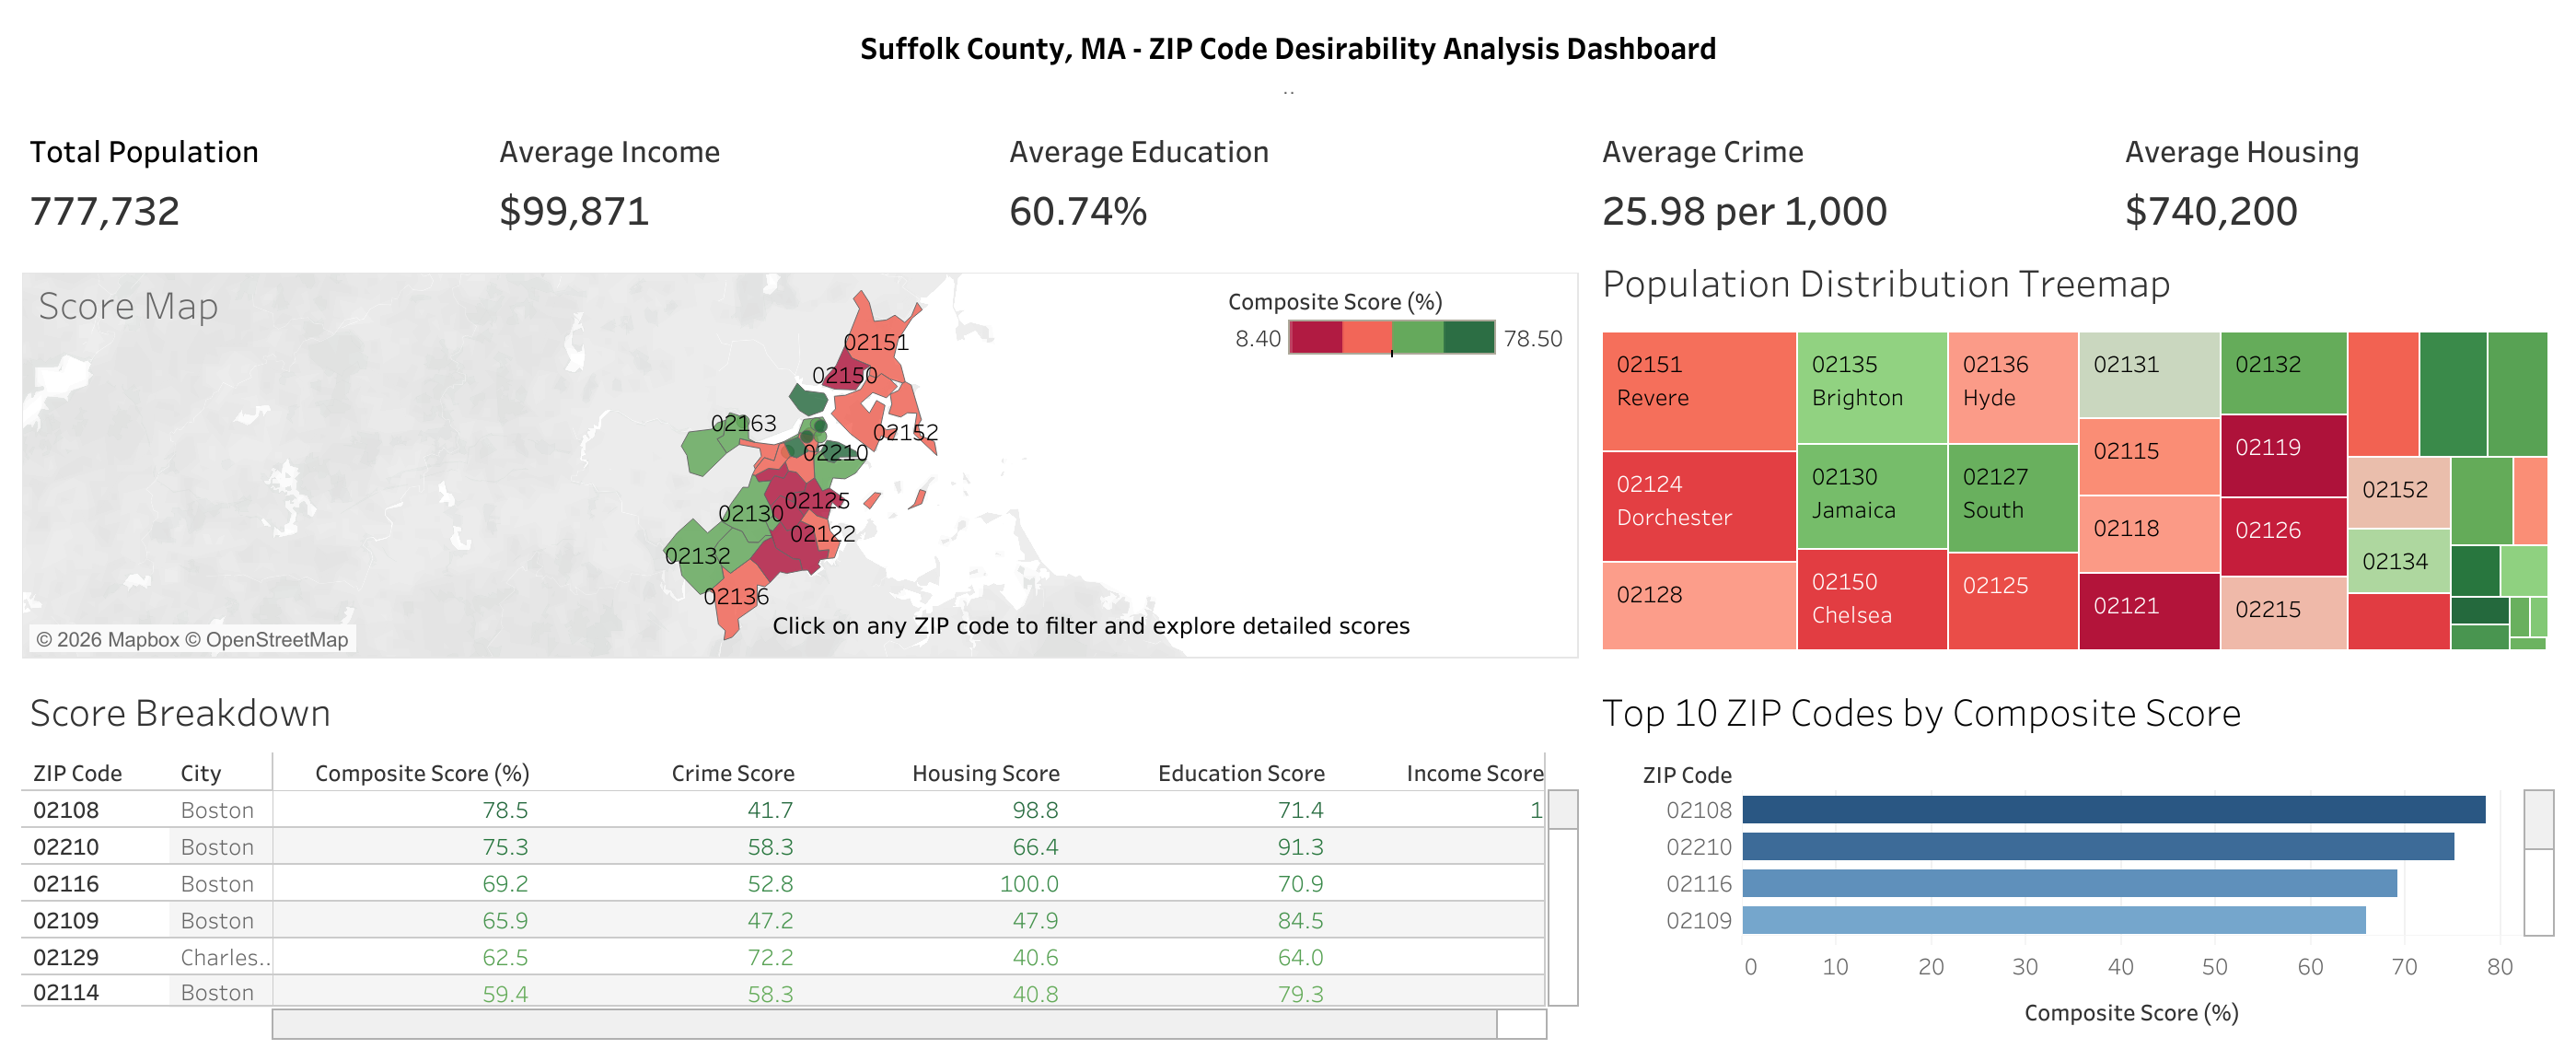

Layout of this report page (visuals, bound fields, positions):
{"tool":"tableau","page":{"name":"Main Dashboard","canvas":[1000,1000],"units":"permille","ordinal":1},"visuals":[{"type":"text","box":[6.4,12.1,987.3,90.6]},{"type":"worksheet","title":"KPI - Total Population","mark":"Automatic","box":[6.4,102.7,181.6,119.3]},{"type":"worksheet","title":"KPI - Avg Income","mark":"Automatic","box":[187.9,102.7,198.1,119.3]},{"type":"worksheet","title":"KPI - Avg Education","mark":"Automatic","box":[386,102.7,229.6,119.3]},{"type":"worksheet","title":"KPI - Avg Crime","mark":"Automatic","box":[615.6,102.7,202.7,119.3]},{"type":"worksheet","title":"KPI - Avg Housing","mark":"Automatic","box":[818.2,102.7,175.4,119.3]},{"type":"worksheet","title":"Score Map","mark":"Automatic","box":[6.4,222.1,609.6,406.4]},{"type":"worksheet","title":"Population Distribution Treemap","mark":"Automatic","box":[615.9,222.1,377.7,406.4]},{"type":"text","box":[12.7,259.8,167.6,52.9]},{"type":"legend","title":"Score Map","param":"[federated.1c15vzl09xrpxk1874k2z1azpoxg].[sum:COMPOSITE SCORE:qk]","box":[476.6,259.8,133.4,128.4]},{"type":"text","box":[298.1,558.9,300.7,57.4]},{"type":"worksheet","title":"Score Breakdown","mark":"Automatic","rows":["ZIP Code","City"],"box":[6.4,628.4,609.6,359.5]},{"type":"worksheet","title":"Rankings(Top 10)","mark":"Automatic","rows":["ZIP Code"],"cols":["COMPOSITE SCORE"],"box":[615.9,628.4,377.7,359.5]}]}

Visuals, with their boxes on the dashboard's canvas, which has no fixed pixel size, in thousandths of its width and height (x1, y1, x2, y2). These are canvas units, not pixel positions in the 2576x1061 screenshot, which may show the page scaled, cropped or inside an application window:
text: l=6, t=12, r=994, b=103
"KPI - Total Population" worksheet: l=6, t=103, r=188, b=222
"KPI - Avg Income" worksheet: l=188, t=103, r=386, b=222
"KPI - Avg Education" worksheet: l=386, t=103, r=616, b=222
"KPI - Avg Crime" worksheet: l=616, t=103, r=818, b=222
"KPI - Avg Housing" worksheet: l=818, t=103, r=994, b=222
"Score Map" worksheet: l=6, t=222, r=616, b=628
"Population Distribution Treemap" worksheet: l=616, t=222, r=994, b=628
text: l=13, t=260, r=180, b=313
"Score Map" legend: l=477, t=260, r=610, b=388
text: l=298, t=559, r=599, b=616
"Score Breakdown" worksheet: l=6, t=628, r=616, b=988
"Rankings(Top 10)" worksheet: l=616, t=628, r=994, b=988
